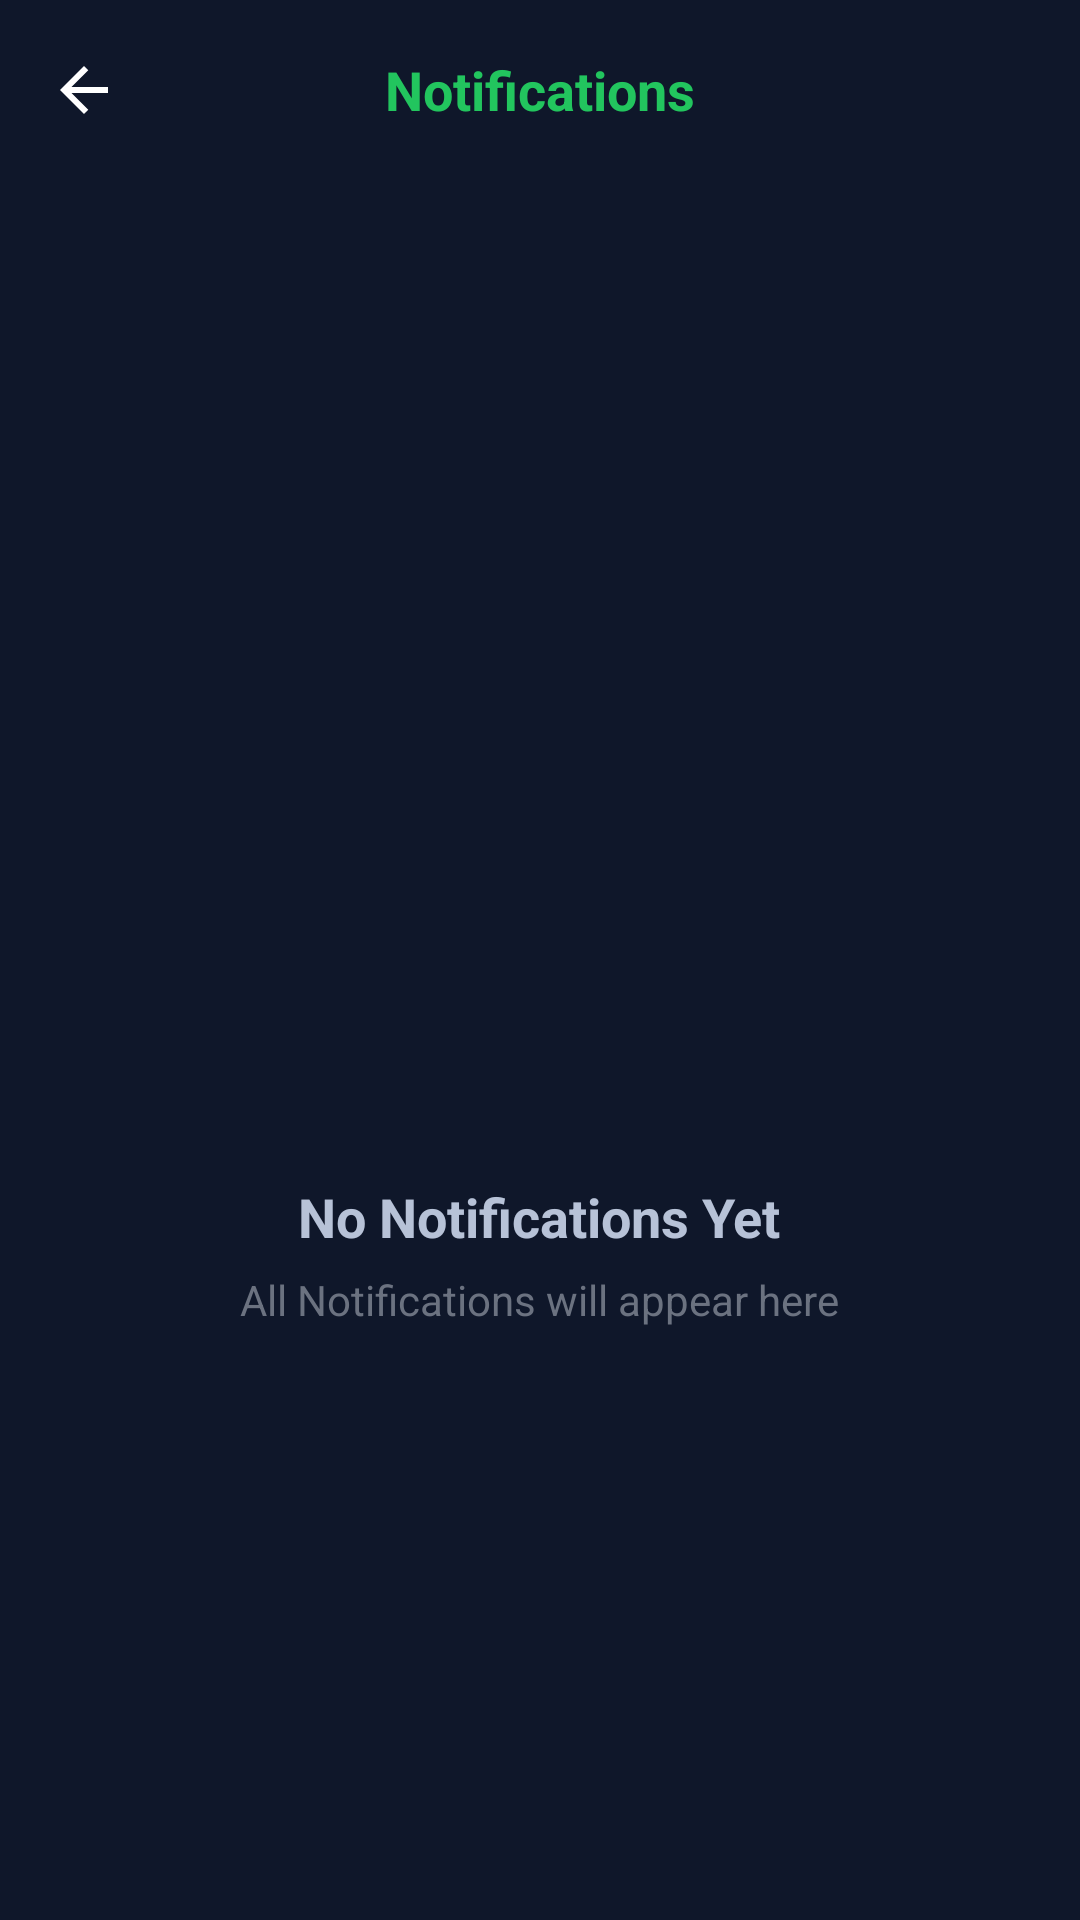

Where to tap for icons on this 1080 × 1920 app screen, as point (x, y):
back: point (84, 90)
